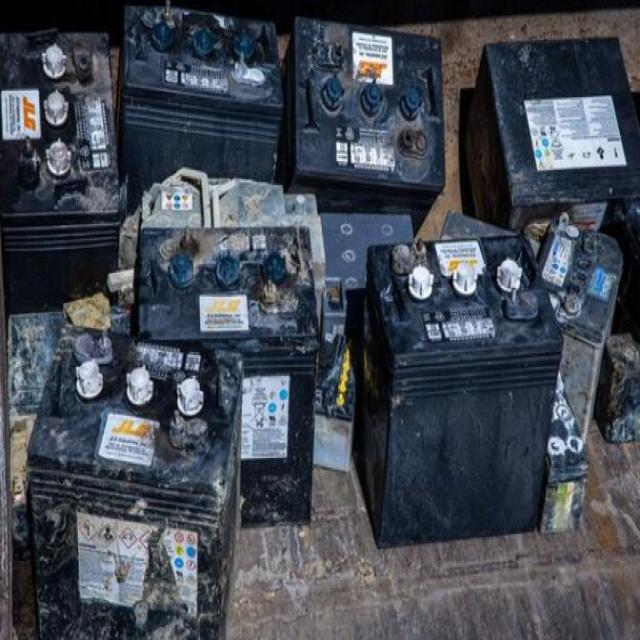electronic: (358, 226, 557, 580)
